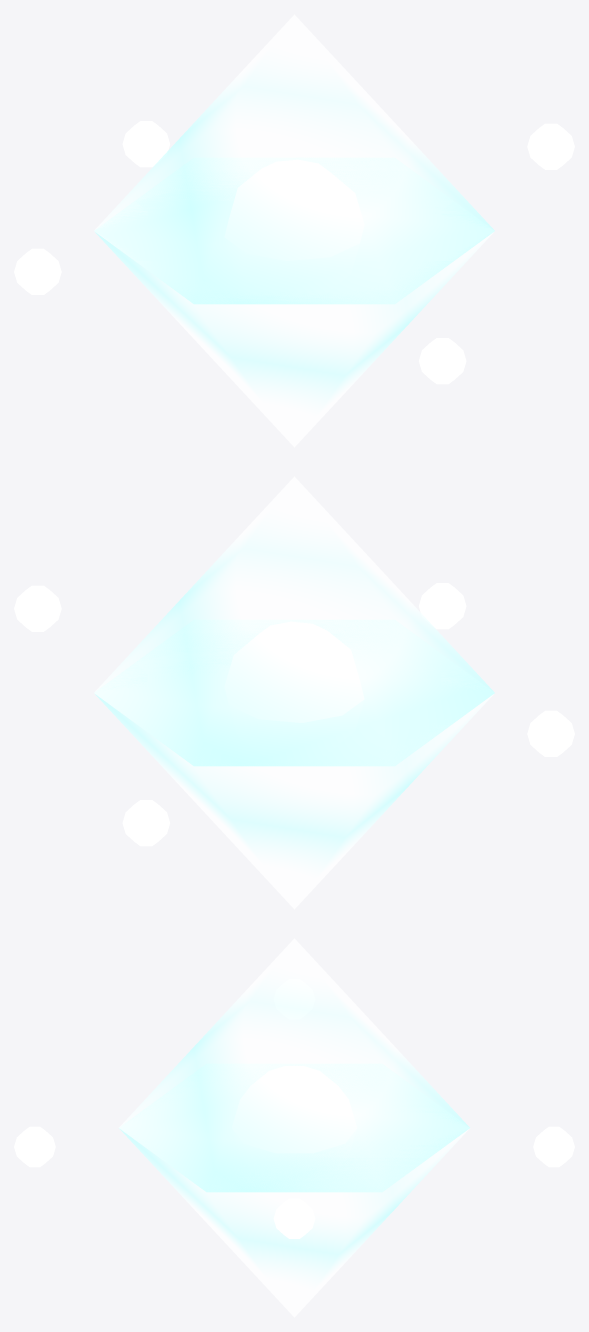
Rendered from xy_item_wishlight.glb.
3 views of the same model, one above another, from view 1: azimuth 30°, elevation 25°; view 2: azimuth 150°, elevation 25°; view 3: azimuth 270°, elevation 25° (orthographic). The views are drawn at different scales.
Parts seen in each view (by area): view 1: xy_item_wishlight; view 2: xy_item_wishlight; view 3: xy_item_wishlight.
Boxes of the visible parts, x1,y1,x2,y2 form: xy_item_wishlight: (14,14,574,447); xy_item_wishlight: (14,476,574,909); xy_item_wishlight: (14,938,574,1317).
Size of the model in its own units: 1.33 by 1 by 1.34.
